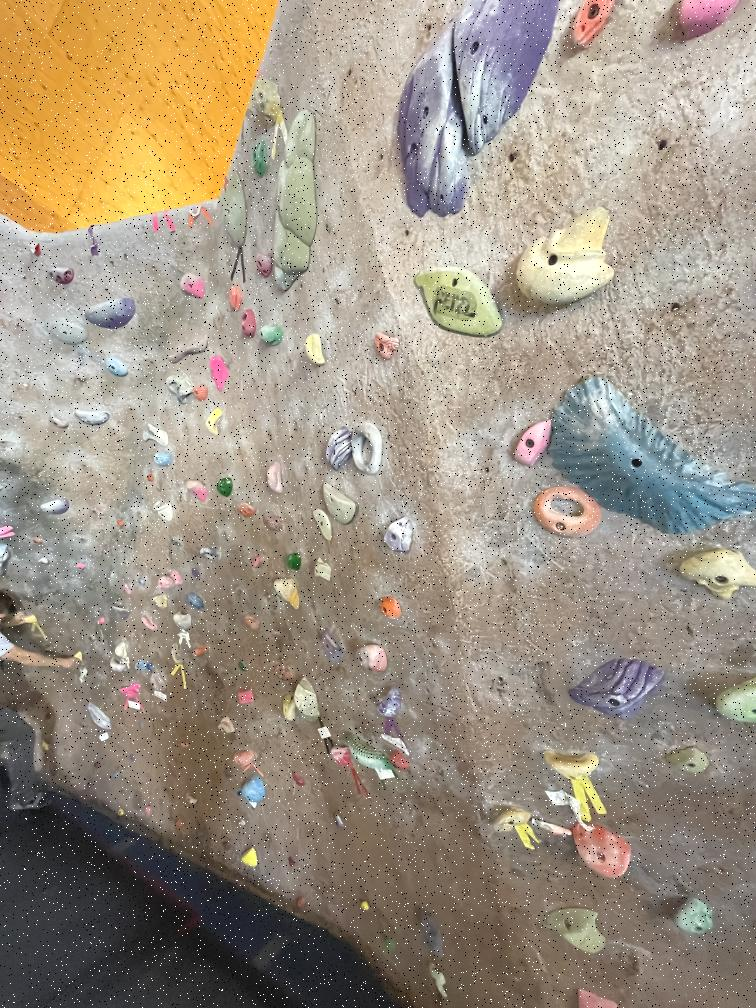Crimp: (659, 739, 712, 779), (320, 481, 360, 527), (320, 428, 354, 471), (375, 684, 404, 722), (309, 507, 336, 545), (85, 702, 114, 732), (310, 557, 337, 585), (134, 658, 150, 672)
Edges: (549, 373, 756, 534), (450, 0, 553, 153), (397, 27, 470, 210), (271, 106, 320, 296), (407, 255, 508, 347), (342, 735, 390, 775), (292, 672, 319, 729), (165, 338, 212, 364)
Foothold: (541, 904, 619, 958), (414, 908, 447, 959), (375, 596, 404, 625), (387, 749, 413, 779), (427, 964, 451, 996), (138, 800, 165, 827), (236, 846, 264, 870), (378, 930, 401, 957), (354, 896, 377, 921), (168, 817, 193, 838), (290, 891, 313, 912), (111, 802, 133, 823), (332, 808, 346, 832), (282, 851, 298, 870), (236, 817, 251, 835), (182, 792, 201, 806), (291, 771, 305, 789), (236, 656, 250, 674), (248, 554, 262, 570), (123, 750, 138, 764), (176, 739, 191, 752), (35, 554, 50, 567), (75, 561, 89, 574), (134, 576, 146, 590), (122, 582, 134, 596), (110, 768, 122, 780), (189, 567, 201, 579), (94, 615, 106, 626), (32, 535, 44, 546), (94, 760, 104, 771), (83, 778, 94, 788), (116, 520, 126, 531), (146, 472, 156, 482)
Jug: (508, 204, 616, 311), (666, 546, 756, 600), (570, 824, 632, 886), (666, 890, 722, 948), (542, 744, 604, 785), (220, 169, 249, 255), (712, 675, 756, 725), (83, 294, 141, 330), (296, 329, 336, 379), (247, 77, 286, 126), (367, 328, 406, 369), (484, 808, 536, 838), (270, 575, 302, 613), (206, 354, 234, 393), (48, 320, 93, 344), (164, 369, 194, 404), (173, 272, 211, 299), (182, 475, 211, 509), (37, 496, 74, 520), (213, 466, 235, 502), (72, 406, 111, 426), (150, 497, 176, 525), (47, 265, 77, 287), (44, 407, 70, 431), (105, 355, 132, 378), (170, 610, 195, 634), (281, 548, 305, 572), (254, 250, 273, 280), (198, 543, 222, 566), (281, 691, 297, 725), (114, 680, 142, 699), (158, 568, 182, 590), (168, 642, 188, 667), (235, 500, 257, 521), (271, 662, 293, 683), (146, 591, 169, 611), (110, 601, 131, 622), (190, 384, 209, 403), (140, 612, 158, 632), (109, 658, 129, 674)
Pinch: (568, 660, 668, 720), (514, 418, 553, 467), (378, 511, 416, 559), (316, 624, 343, 665), (248, 139, 271, 181), (137, 419, 170, 446), (264, 454, 284, 495), (234, 685, 258, 713), (204, 404, 223, 439), (238, 613, 262, 636), (226, 284, 245, 313), (213, 713, 235, 736), (114, 640, 130, 660), (190, 645, 209, 658)
Pocket: (528, 484, 604, 540), (354, 424, 384, 476), (239, 308, 257, 343)
Sloper: (356, 638, 392, 679), (237, 776, 272, 809), (256, 321, 284, 352), (148, 669, 170, 698), (262, 510, 286, 534), (232, 747, 256, 767), (152, 450, 174, 471), (185, 590, 206, 611)
